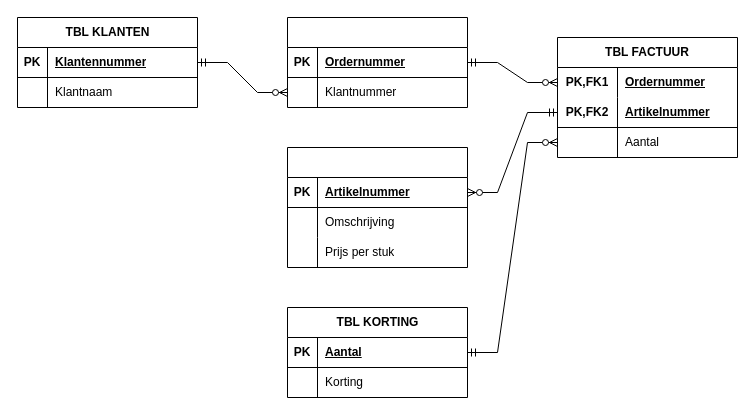
Image size: 755x415. Some labels were removed from this diagram. Here are the shapes that lost their labels. From the top down, the box of each, then its label:
(286, 16, 468, 108): TBL ORDER
(286, 146, 468, 268): TBL ARTIKEL
